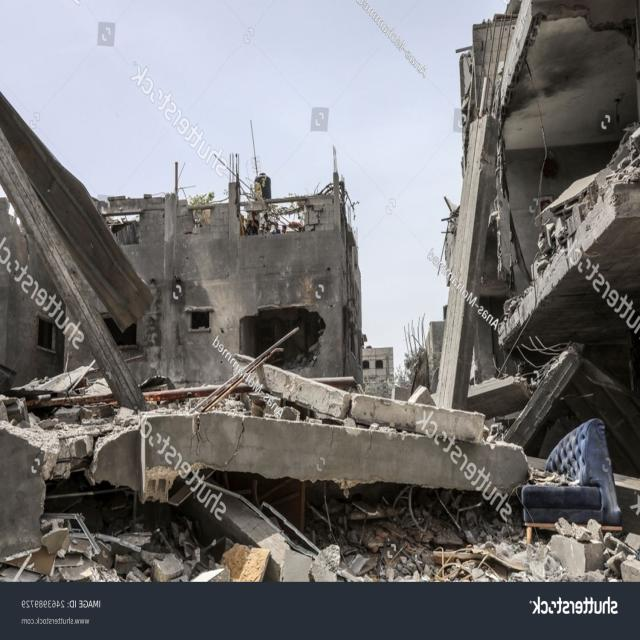Destroyed_building: (0, 0, 635, 583)
